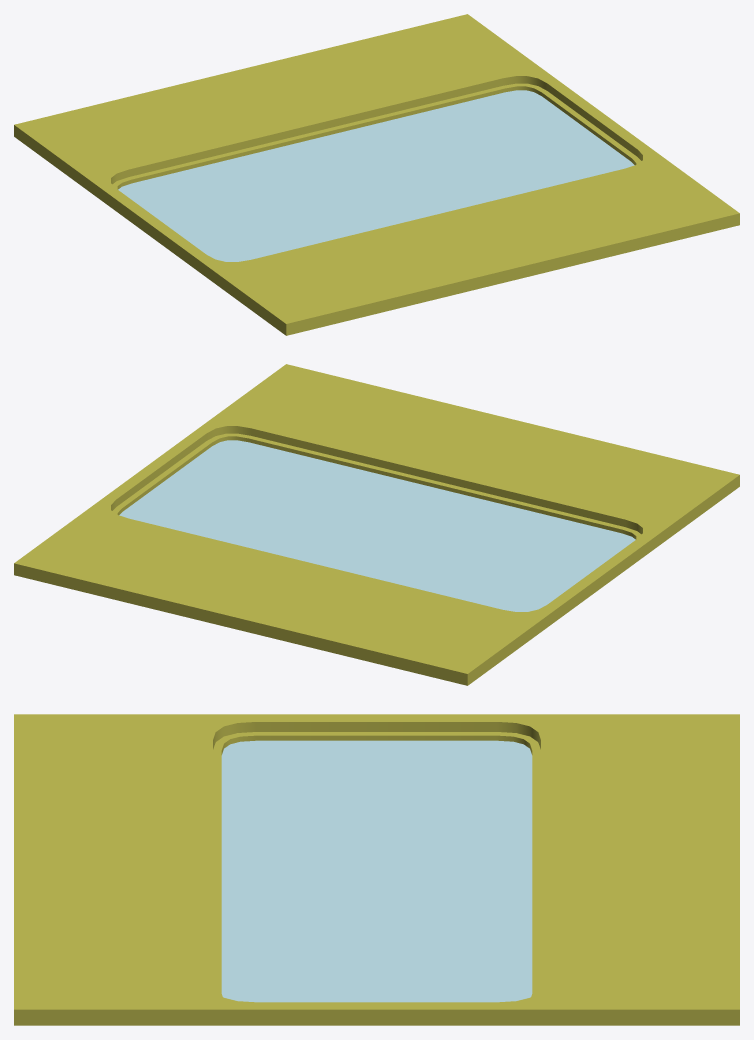
Rendered from RoundCorr_Floor_Line_B.FBX.
3 renders of one model, top to bottom at view 1: azimuth 30°, elevation 25°; view 2: azimuth 150°, elevation 25°; view 3: azimuth 270°, elevation 25°, orthographic. The views are drawn at different scales.
Parts seen in each view (by area): view 1: RoundCorr_Floor_Line_B; view 2: RoundCorr_Floor_Line_B; view 3: RoundCorr_Floor_Line_B.
Boxes of the visible parts, bbox=[...] form: RoundCorr_Floor_Line_B: bbox=[14, 14, 739, 335]; RoundCorr_Floor_Line_B: bbox=[14, 364, 739, 685]; RoundCorr_Floor_Line_B: bbox=[14, 714, 739, 1025].
Size of the model in its own units: 400 by 10 by 416.
